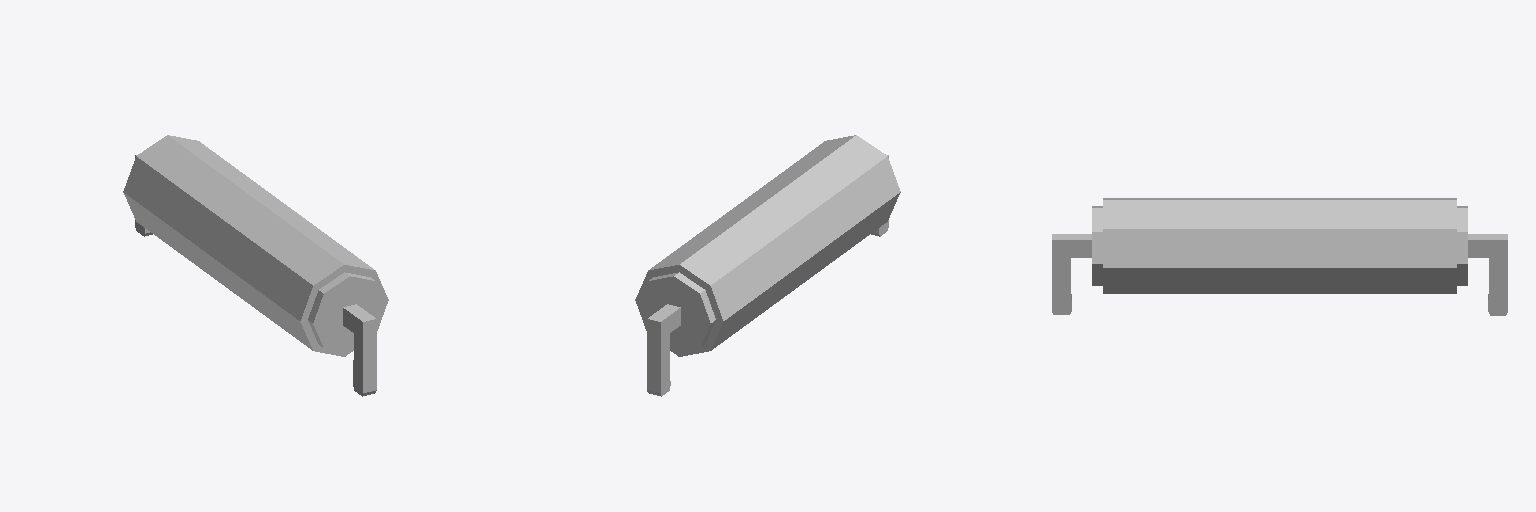
File: capacitor_etx_5_2.obj
3 renders of one model, left to right at view 1: azimuth 30°, elevation 25°; view 2: azimuth 150°, elevation 25°; view 3: azimuth 270°, elevation 25°, orthographic.
Visible parts, largest first — view 1: capacitor_etx_5_2; view 2: capacitor_etx_5_2; view 3: capacitor_etx_5_2.
Boxes of the visible parts, box(x1,y1,x2,y2) form: capacitor_etx_5_2: box(123, 135, 388, 396); capacitor_etx_5_2: box(635, 135, 900, 396); capacitor_etx_5_2: box(1052, 198, 1507, 315).
Size of the model in its own units: 0.0432 by 0.0525 by 0.1932.